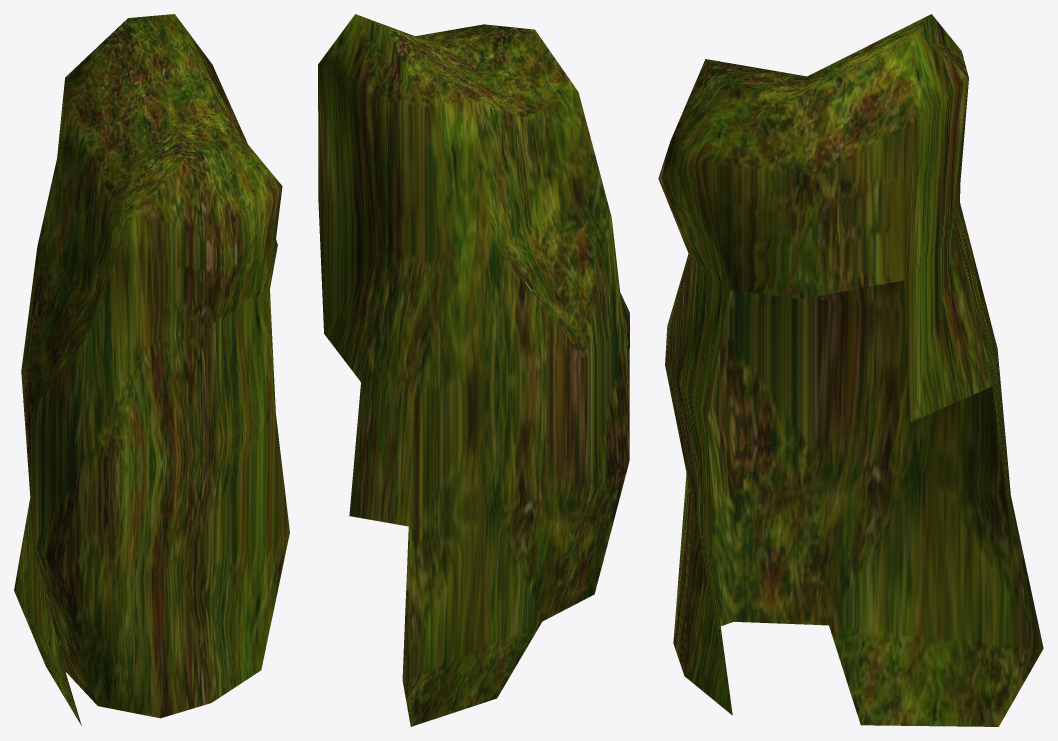
File: TROLLHOLE02_RM_PSURF108.fbx
3 renders of one model, left to right at view 1: azimuth 30°, elevation 25°; view 2: azimuth 150°, elevation 25°; view 3: azimuth 270°, elevation 25°, orthographic. The views are drawn at different scales.
Visible parts, largest first — view 1: TROLLHOLE02_RM_PSURF108; view 2: TROLLHOLE02_RM_PSURF108; view 3: TROLLHOLE02_RM_PSURF108.
Boxes of the visible parts, bbox=[...] form: TROLLHOLE02_RM_PSURF108: bbox=[14, 14, 289, 725]; TROLLHOLE02_RM_PSURF108: bbox=[318, 14, 629, 726]; TROLLHOLE02_RM_PSURF108: bbox=[658, 14, 1043, 726].
Size of the model in its own units: 46433 by 120685 by 55894.
1 material, 1 textured.
